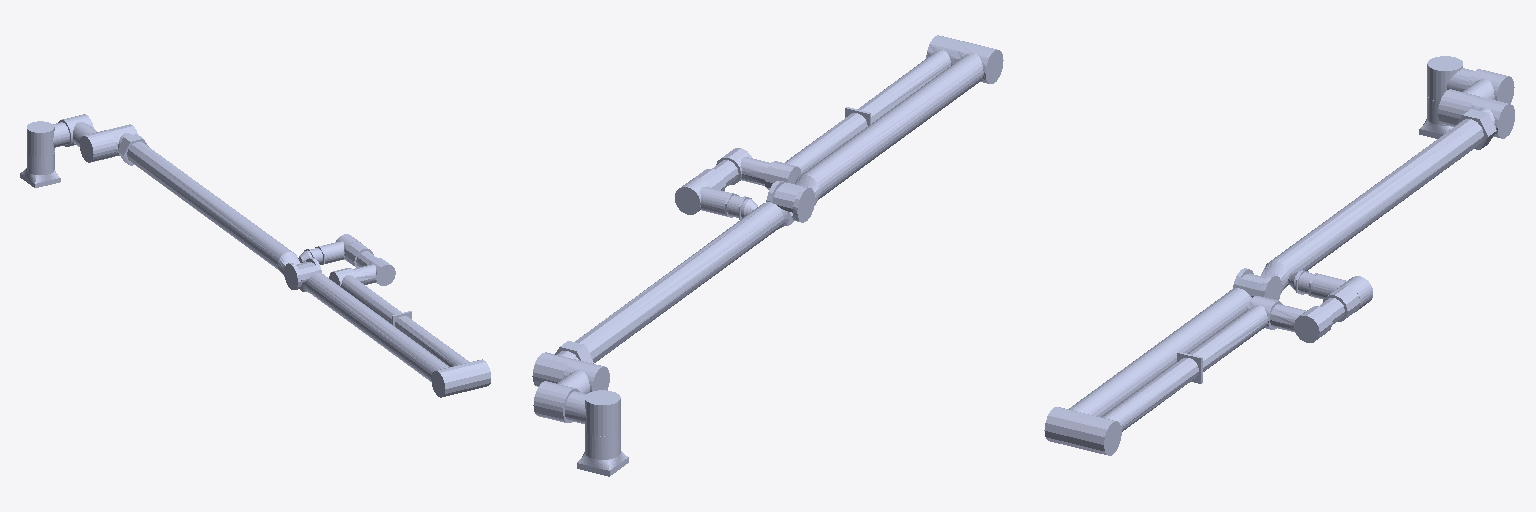
The robot description file, URDF, robot "bean1":
<?xml version="1.0" encoding="utf-8"?>
<!-- This URDF was automatically created by SolidWorks to URDF Exporter! Originally created by Stephen Brawner (brawner@gmail.com) 
     Commit Version: 1.6.0-4-g7f85cfe  Build Version: 1.6.7995.38578
     For more information, please see http://wiki.ros.org/sw_urdf_exporter -->
<robot
  name="bean1">
  <link
    name="base_link">
    <inertial>
      <origin
        xyz="3.77284553370942E-17 -3.12181240650529E-17 0.157585505365563"
        rpy="0 0 0" />
      <mass
        value="48.6218530721678" />
      <inertia
        ixx="1.44526949743902"
        ixy="-5.93816418139568E-17"
        ixz="-3.7165645744407E-17"
        iyy="1.44526949743902"
        iyz="1.07748310044426E-16"
        izz="1.46757705283248" />
    </inertial>
    <visual>
      <origin
        xyz="0 0 0"
        rpy="0 0 0" />
      <geometry>
        <mesh
          filename="package://bean1/meshes/base_link.STL" />
      </geometry>
      <material
        name="">
        <color
          rgba="0.792156862745098 0.819607843137255 0.933333333333333 1" />
      </material>
    </visual>
    <collision>
      <origin
        xyz="0 0 0"
        rpy="0 0 0" />
      <geometry>
        <mesh
          filename="package://bean1/meshes/base_link.STL" />
      </geometry>
    </collision>
  </link>
  <link
    name="link_one">
    <inertial>
      <origin
        xyz="0.141039454319424 0.346003456542661 0.166680699982783"
        rpy="0 0 0" />
      <mass
        value="215.452289986068" />
      <inertia
        ixx="23.5292520724001"
        ixy="-6.81368042079949"
        ixz="-1.32373428157023"
        iyy="19.7682949554739"
        iyz="-2.8552075089347"
        izz="34.0705271715844" />
    </inertial>
    <visual>
      <origin
        xyz="0 0 0"
        rpy="0 0 0" />
      <geometry>
        <mesh
          filename="package://bean1/meshes/link_one.STL" />
      </geometry>
      <material
        name="">
        <color
          rgba="0.792156862745098 0.819607843137255 0.933333333333333 1" />
      </material>
    </visual>
    <collision>
      <origin
        xyz="0 0 0"
        rpy="0 0 0" />
      <geometry>
        <mesh
          filename="package://bean1/meshes/link_one.STL" />
      </geometry>
    </collision>
  </link>
  <joint
    name="revolve_one"
    type="revolute">
    <origin
      xyz="0 0 0.475"
      rpy="0 0 -1.5708" />
    <parent
      link="base_link" />
    <child
      link="link_one" />
    <axis
      xyz="0 0 1" />
    <limit
      lower="-3.14"
      upper="3.14"
      effort="1300"
      velocity="0.3" />
    <dynamics
      damping="0.2"
      friction="0.2" />
  </joint>
  <link
    name="link_two">
    <inertial>
      <origin
        xyz="-2.42078662853917 -0.00168736393692048 0.186867473725434"
        rpy="0 0 0" />
      <mass
        value="595.256424350116" />
      <inertia
        ixx="12.6138249120467"
        ixy="-2.78751104162931"
        ixz="18.9237816197576"
        iyy="1792.80915841713"
        iyz="0.013205498183059"
        izz="1789.95584455307" />
    </inertial>
    <visual>
      <origin
        xyz="0 0 0"
        rpy="0 0 0" />
      <geometry>
        <mesh
          filename="package://bean1/meshes/link_two.STL" />
      </geometry>
      <material
        name="">
        <color
          rgba="0.792156862745098 0.819607843137255 0.933333333333333 1" />
      </material>
    </visual>
    <collision>
      <origin
        xyz="0 0 0"
        rpy="0 0 0" />
      <geometry>
        <mesh
          filename="package://bean1/meshes/link_two.STL" />
      </geometry>
    </collision>
  </link>
  <joint
    name="revolve_two"
    type="continuous">
    <origin
      xyz="0.67 0.81 0.21"
      rpy="1.5708 0 -3.1416" />
    <parent
      link="link_one" />
    <child
      link="link_two" />
    <axis
      xyz="0 0 1" />
    <limit
      lower="-3.14"
      upper="3.14"
      effort="1300"
      velocity="0.2" />
    <dynamics
      damping="0.2"
      friction="0.2" />
  </joint>
  <link
    name="link_three">
    <inertial>
      <origin
        xyz="2.28912121824386 0.00153437140469215 -0.00417986249872904"
        rpy="0 0 0" />
      <mass
        value="431.618211664157" />
      <inertia
        ixx="7.06718335926456"
        ixy="1.34082058612514"
        ixz="3.80809412418537"
        iyy="742.793816675442"
        iyz="-0.00271466113199331"
        izz="742.8111103932" />
    </inertial>
    <visual>
      <origin
        xyz="0 0 0"
        rpy="0 0 0" />
      <geometry>
        <mesh
          filename="package://bean1/meshes/link_three.STL" />
      </geometry>
      <material
        name="">
        <color
          rgba="0.792156862745098 0.819607843137255 0.933333333333333 1" />
      </material>
    </visual>
    <collision>
      <origin
        xyz="0 0 0"
        rpy="0 0 0" />
      <geometry>
        <mesh
          filename="package://bean1/meshes/link_three.STL" />
      </geometry>
    </collision>
  </link>
  <joint
    name="revolve_three"
    type="revolute">
    <origin
      xyz="-5.46 0 0.2"
      rpy="0 0 3.1416" />
    <parent
      link="link_two" />
    <child
      link="link_three" />
    <axis
      xyz="0 0 -1" />
    <limit
      lower="-2.09"
      upper="2.09"
      effort="1000"
      velocity="0.2" />
    <dynamics
      damping="0.2"
      friction="0.2" />
  </joint>
  <link
    name="link_four">
    <inertial>
      <origin
        xyz="2.16226650083511 8.62355826525274E-07 -0.100517303455037"
        rpy="0 0 0" />
      <mass
        value="414.150021815561" />
      <inertia
        ixx="33.844195019259"
        ixy="-0.000105604859717339"
        ixz="112.75734217377"
        iyy="1046.05494210546"
        iyz="1.65114978668971E-05"
        izz="1017.62193760193" />
    </inertial>
    <visual>
      <origin
        xyz="0 0 0"
        rpy="0 0 0" />
      <geometry>
        <mesh
          filename="package://bean1/meshes/link_four.STL" />
      </geometry>
      <material
        name="">
        <color
          rgba="0.792156862745098 0.819607843137255 0.933333333333333 1" />
      </material>
    </visual>
    <collision>
      <origin
        xyz="0 0 0"
        rpy="0 0 0" />
      <geometry>
        <mesh
          filename="package://bean1/meshes/link_four.STL" />
      </geometry>
    </collision>
  </link>
  <joint
    name="revolve_four"
    type="revolute">
    <origin
      xyz="4.4 0 0.4"
      rpy="3.1416 0 3.1416" />
    <parent
      link="link_three" />
    <child
      link="link_four" />
    <axis
      xyz="0 0 -1" />
    <limit
      lower="-3.14"
      upper="3.14"
      effort="1000"
      velocity="0.2" />
    <dynamics
      damping="0.2"
      friction="0.2" />
  </joint>
  <link
    name="link_five">
    <inertial>
      <origin
        xyz="-2.09979993393006E-07 0.126660137233229 0.0532015159443482"
        rpy="0 0 0" />
      <mass
        value="66.2035812018457" />
      <inertia
        ixx="3.59359656759112"
        ixy="4.27100151804886E-06"
        ixz="-2.57626450402026E-06"
        iyy="1.52184758527056"
        iyz="0.446111023964057"
        izz="2.88803960515915" />
    </inertial>
    <visual>
      <origin
        xyz="0 0 0"
        rpy="0 0 0" />
      <geometry>
        <mesh
          filename="package://bean1/meshes/link_five.STL" />
      </geometry>
      <material
        name="">
        <color
          rgba="0.792156862745098 0.819607843137255 0.933333333333333 1" />
      </material>
    </visual>
    <collision>
      <origin
        xyz="0 0 0"
        rpy="0 0 0" />
      <geometry>
        <mesh
          filename="package://bean1/meshes/link_five.STL" />
      </geometry>
    </collision>
  </link>
  <joint
    name="revolve_five"
    type="revolute">
    <origin
      xyz="4.835 0 -0.65"
      rpy="1.5708 0 -1.5708" />
    <parent
      link="link_four" />
    <child
      link="link_five" />
    <axis
      xyz="0 0 1" />
    <limit
      lower="-6.28"
      upper="6.28"
      effort="500"
      velocity="0.5" />
    <dynamics
      damping="0.1"
      friction="0.1" />
  </joint>
  <link
    name="link_six">
    <inertial>
      <origin
        xyz="-3.15101674752682E-08 1.09812221538164E-08 -0.129133866814103"
        rpy="0 0 0" />
      <mass
        value="12.7438637584956" />
      <inertia
        ixx="0.12189290103971"
        ixy="1.34739786618946E-08"
        ixz="-5.6566389553238E-08"
        iyy="0.121893037897778"
        iyz="1.97132583797493E-08"
        izz="0.0954663217516147" />
    </inertial>
    <visual>
      <origin
        xyz="0 0 0"
        rpy="0 0 0" />
      <geometry>
        <mesh
          filename="package://bean1/meshes/link_six.STL" />
      </geometry>
      <material
        name="">
        <color
          rgba="0.792156862745098 0.819607843137255 0.933333333333333 1" />
      </material>
    </visual>
    <collision>
      <origin
        xyz="0 0 0"
        rpy="0 0 0" />
      <geometry>
        <mesh
          filename="package://bean1/meshes/link_six.STL" />
      </geometry>
    </collision>
  </link>
  <joint
    name="revolve_six"
    type="revolute">
    <origin
      xyz="0 0.550000000000002 0"
      rpy="-1.5707963267949 0 3.14159265358979" />
    <parent
      link="link_five" />
    <child
      link="link_six" />
    <axis
      xyz="0 0 -1" />
    <limit
      lower="-6.28"
      upper="6.28"
      effort="500"
      velocity="0.8" />
    <dynamics
      damping="0.1"
      friction="0.1" />
  </joint>
</robot>

--- Facts derived from the render (not from the file) ---
3 views of the same robot in one strip: view 1: azimuth 30°, elevation 25°; view 2: azimuth 150°, elevation 25°; view 3: azimuth 330°, elevation 25° (orthographic).
Robot: bean1 — 7 links, 6 joints (5 revolute, 1 continuous); root link base_link; default pose: all joints at 0.
Visible links, largest first — view 1: link_two, link_three, link_four, link_one, base_link, link_five; view 2: link_two, link_three, link_four, link_one, link_five, base_link; view 3: link_two, link_four, link_three, link_one, link_five, base_link.
Boxes of the visible links, x1,y1,x2,y2 form: link_two: (109, 124, 321, 289); link_three: (296, 262, 467, 397); link_four: (329, 242, 490, 391); link_one: (27, 114, 116, 162); base_link: (20, 151, 60, 187); link_five: (315, 234, 360, 264); link_two: (532, 181, 814, 386); link_three: (773, 43, 1003, 212); link_four: (695, 35, 968, 190); link_one: (533, 359, 620, 436); link_five: (675, 178, 738, 217); base_link: (577, 430, 628, 476); link_two: (1233, 97, 1514, 300); link_four: (1074, 286, 1360, 455); link_three: (1044, 273, 1265, 447); link_one: (1427, 56, 1514, 126); link_five: (1308, 273, 1372, 311); base_link: (1419, 96, 1453, 138).
Size in the robot's own frame: 2.45 by 10.96 by 0.895 metres.
Meshes: 7 distinct files referenced, 7 mesh visuals loaded (7 binary STL).
